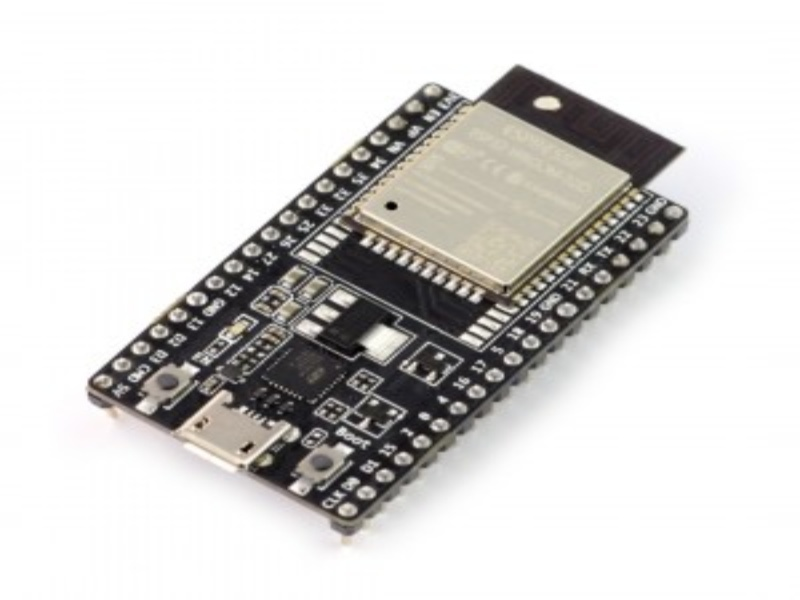esp32: (92, 26, 703, 523)
